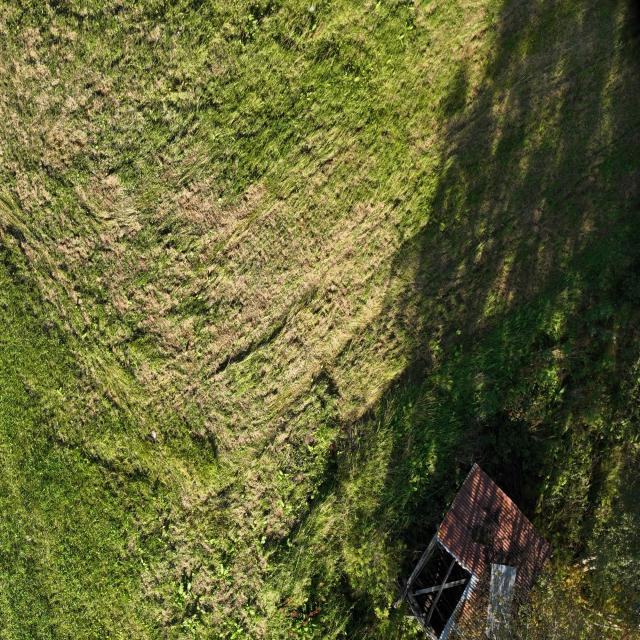rumex: (172, 580, 198, 610), (239, 600, 262, 626), (214, 564, 235, 584)
